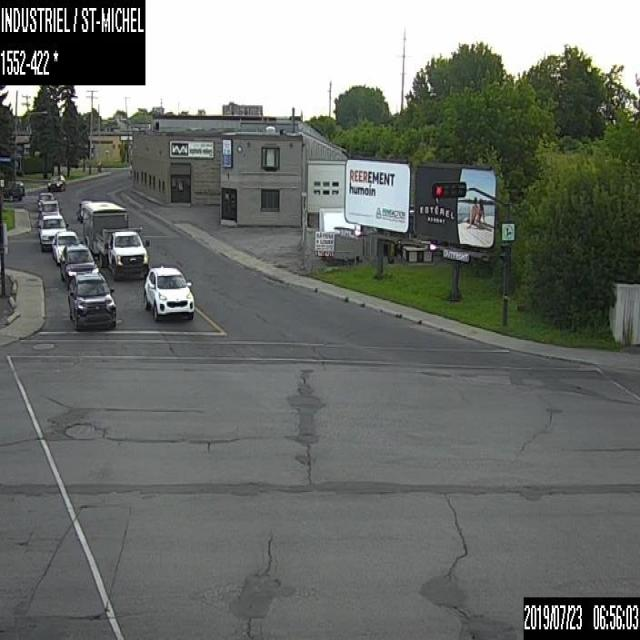vehicle: (80, 199, 150, 280), (143, 264, 195, 319), (67, 272, 115, 330), (60, 241, 98, 284), (36, 211, 68, 252), (51, 230, 79, 264), (0, 179, 24, 201), (37, 198, 59, 217), (36, 190, 55, 209), (48, 173, 64, 190)
